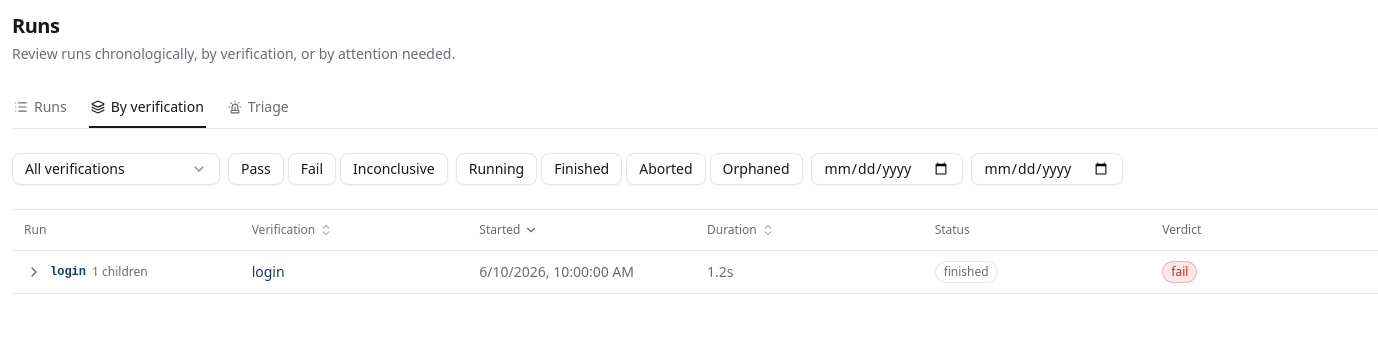
Test: RunsList polling (#298) › keeps verification groups collapsed until the user expands one
Expected: the text "child-run" is not shown
Step 1. Click the button named "Expand" → click(34, 272), box [24,262,44,282]
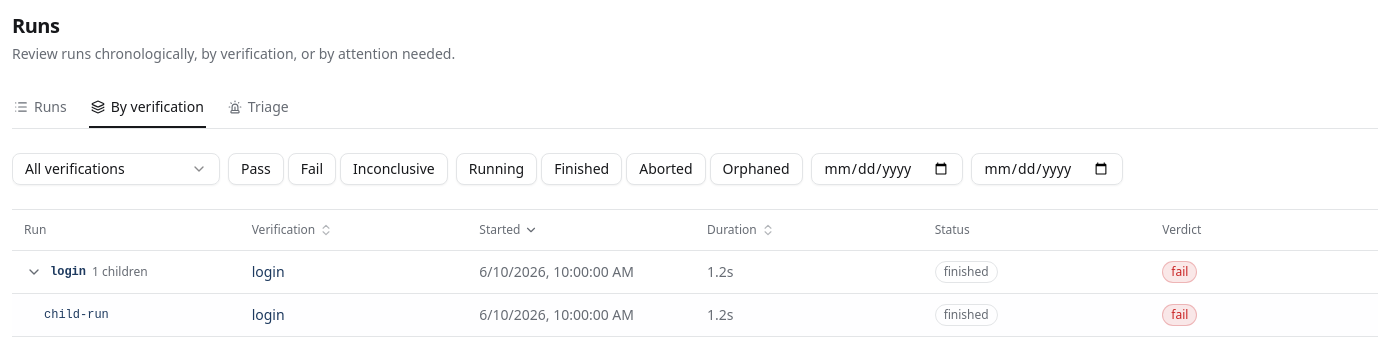
Now the link "child-run" is shown, box [44,306,109,322]
Now the button named "Collapse" is shown, box [24,262,44,282]
